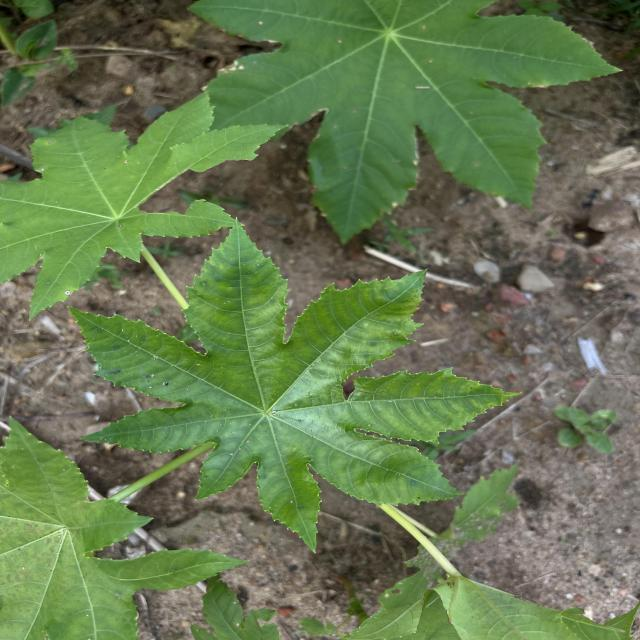Ricinus communis linn: (62, 212, 526, 560)
